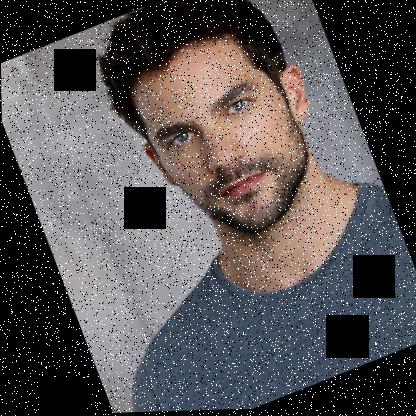Male: (114, 10, 346, 260)
